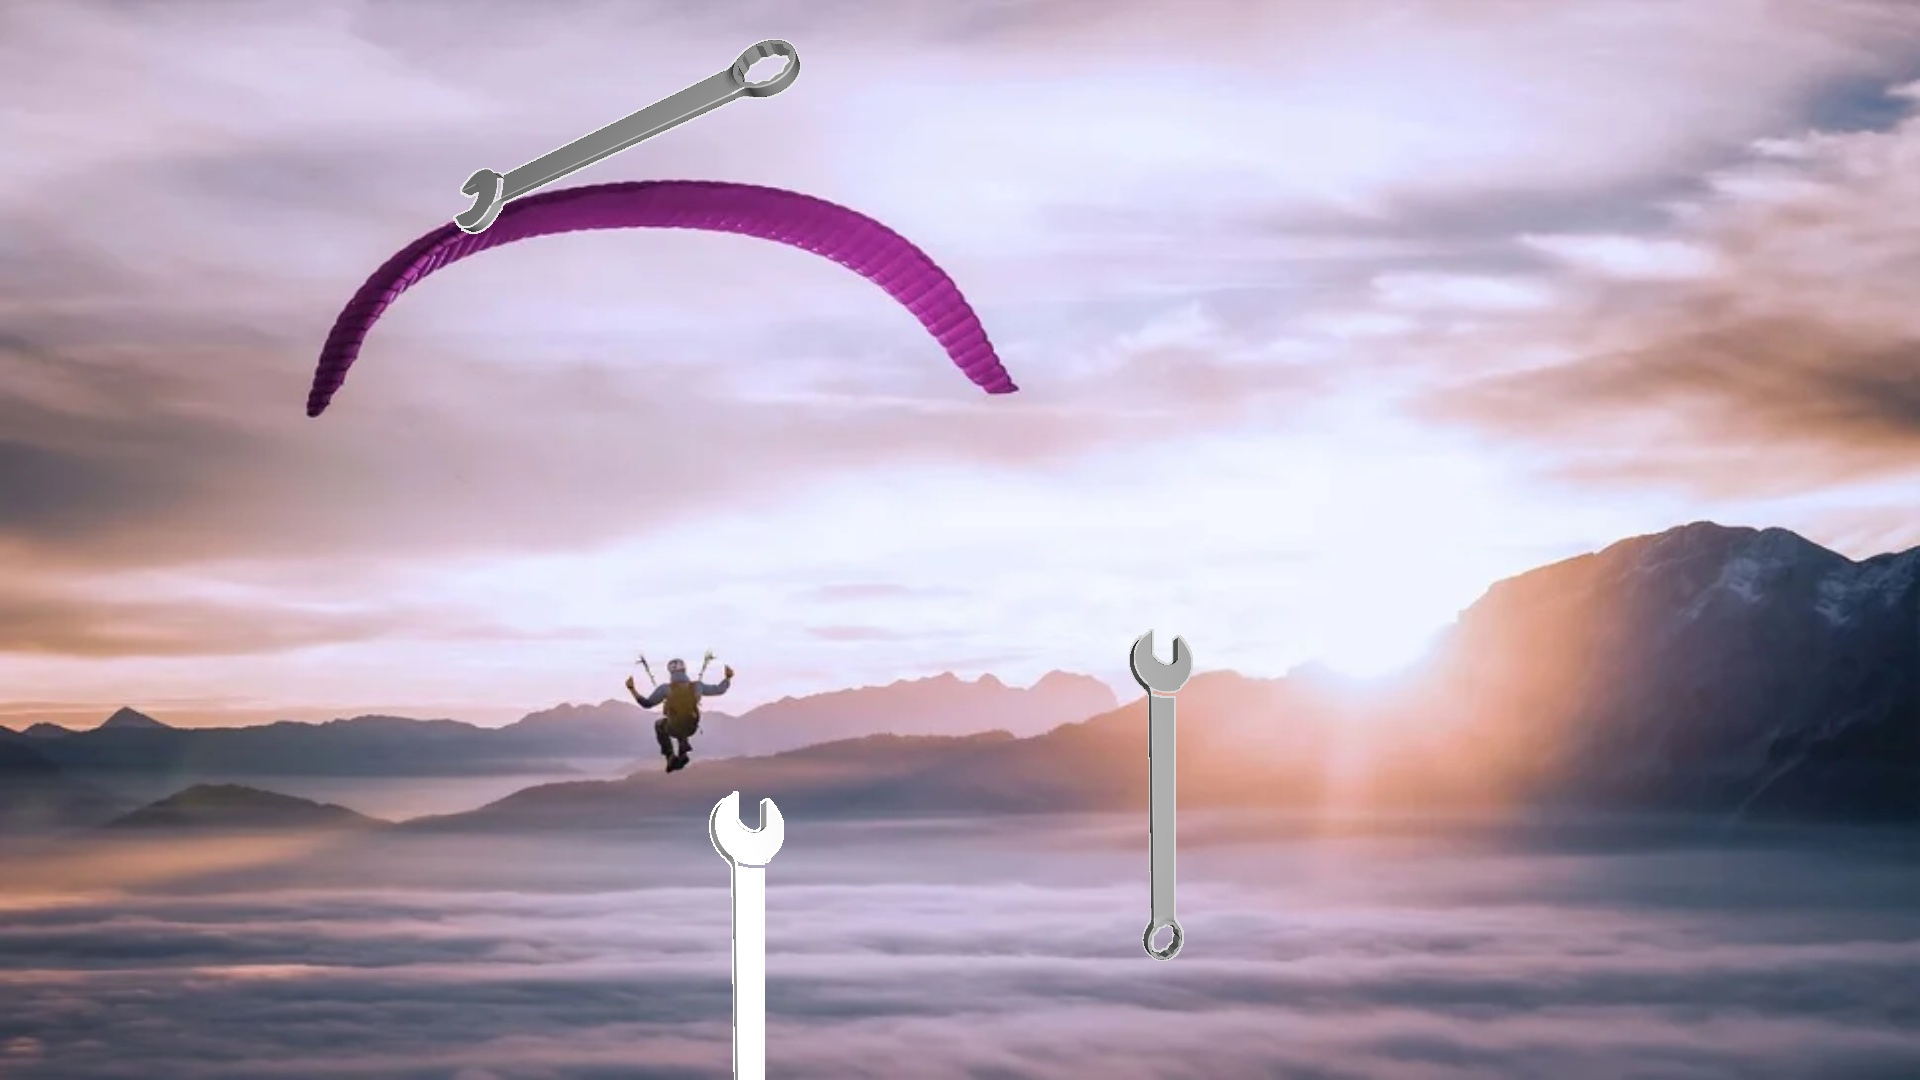Mixed Key: (454, 40, 800, 233), (709, 791, 783, 1079), (1129, 629, 1192, 960)
